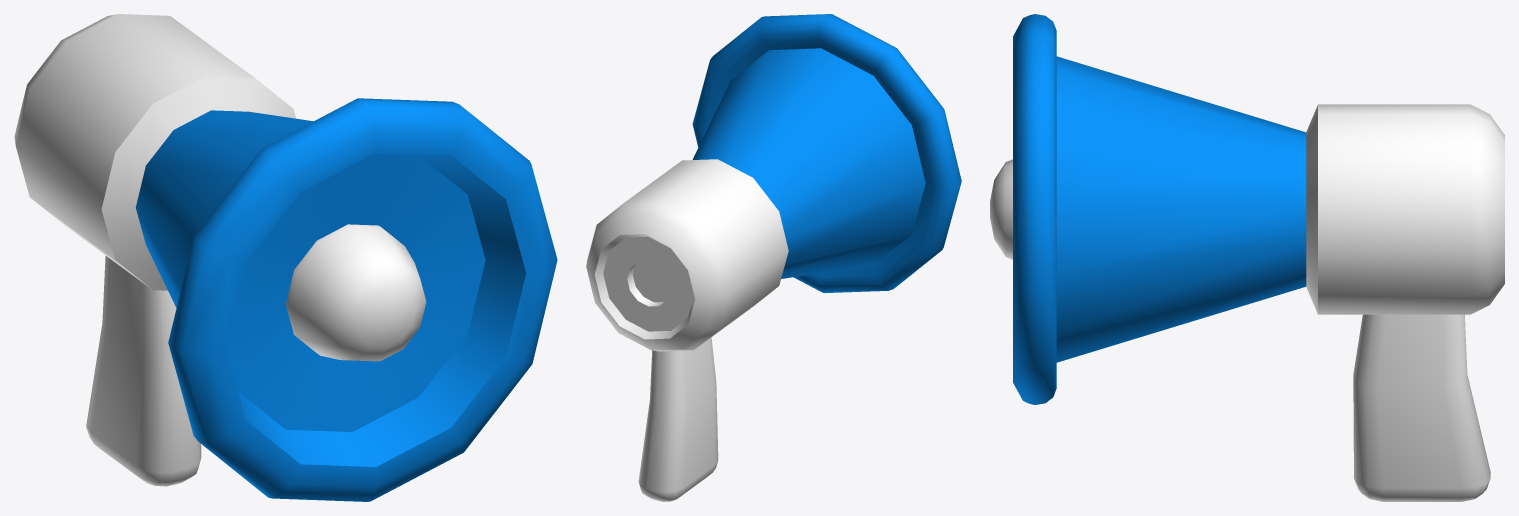
The model's file is Loudspeaker_2.fbx.
3 renders of one model, left to right at view 1: azimuth 30°, elevation 25°; view 2: azimuth 150°, elevation 25°; view 3: azimuth 270°, elevation 25°, orthographic. The views are drawn at different scales.
Parts seen in each view (by area): view 1: Loudspeaker_2; view 2: Loudspeaker_2; view 3: Loudspeaker_2.
Part boxes in pixels (<box>): Loudspeaker_2: <box>14,14,557,501</box>; Loudspeaker_2: <box>586,14,961,501</box>; Loudspeaker_2: <box>990,14,1504,501</box>.
Size of the model in its own units: 0.271 by 0.3548 by 0.3553.
